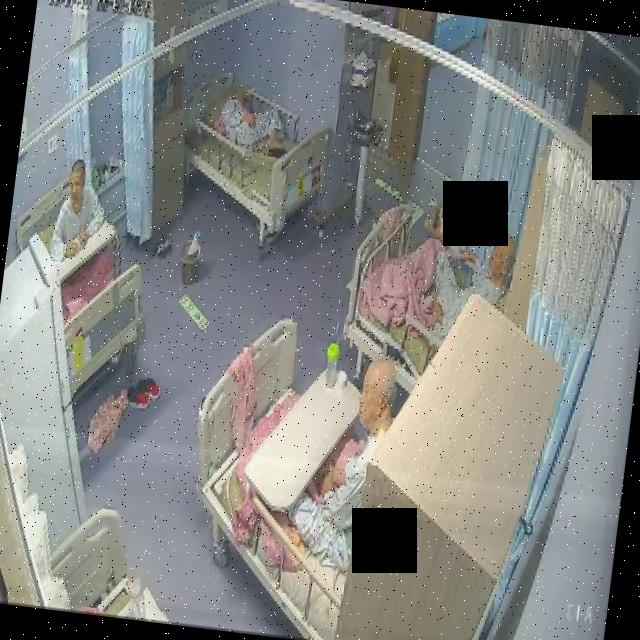bed: (174, 314, 406, 640), (0, 173, 161, 403), (338, 205, 492, 402), (174, 65, 334, 239)
lie: (209, 80, 294, 158)
patient: (281, 357, 398, 572), (416, 212, 517, 356), (48, 154, 110, 266), (208, 81, 294, 157)
sit: (281, 357, 399, 573), (380, 208, 518, 356), (46, 154, 110, 266)
